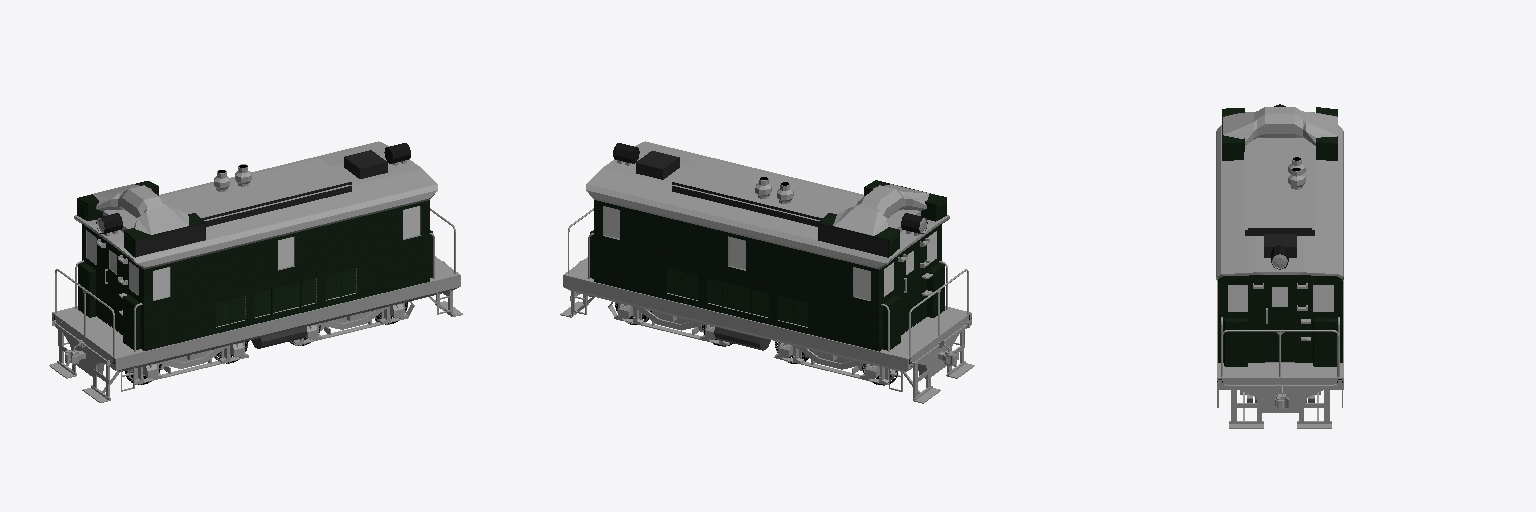
3 views of the same model, side by side, from view 1: azimuth 30°, elevation 25°; view 2: azimuth 150°, elevation 25°; view 3: azimuth 270°, elevation 25° (orthographic).
Visible parts, largest first — view 1: GE_40_TON_BOXCAB_SHELL, GE_40_TON_BOXCAB_FRAME, GE_40_TON_BOXCAB_BOGEY_FRONT, GE_40_TON_BOXCAB_BOGEY_REAR, GE_40_TON_BOXCAB_FUEL_TANK; view 2: GE_40_TON_BOXCAB_SHELL, GE_40_TON_BOXCAB_FRAME, GE_40_TON_BOXCAB_BOGEY_FRONT, GE_40_TON_BOXCAB_BOGEY_REAR, GE_40_TON_BOXCAB_FUEL_TANK; view 3: GE_40_TON_BOXCAB_SHELL, GE_40_TON_BOXCAB_FRAME.
Part boxes in pixels (x1,y1,x2,y2): GE_40_TON_BOXCAB_SHELL: (74,141,437,351); GE_40_TON_BOXCAB_FRAME: (49,208,462,402); GE_40_TON_BOXCAB_BOGEY_FRONT: (126,342,248,384); GE_40_TON_BOXCAB_BOGEY_REAR: (293,301,414,345); GE_40_TON_BOXCAB_FUEL_TANK: (251,327,306,348); GE_40_TON_BOXCAB_SHELL: (586,141,949,351); GE_40_TON_BOXCAB_FRAME: (560,208,974,403); GE_40_TON_BOXCAB_BOGEY_FRONT: (774,342,896,384); GE_40_TON_BOXCAB_BOGEY_REAR: (608,301,729,345); GE_40_TON_BOXCAB_FUEL_TANK: (714,326,770,350); GE_40_TON_BOXCAB_SHELL: (1216,104,1343,366); GE_40_TON_BOXCAB_FRAME: (1217,280,1343,428).
Bounding box in the file's own units: 8.68 × 3.98 × 2.55.
Materials: 25 (9 with a texture image).